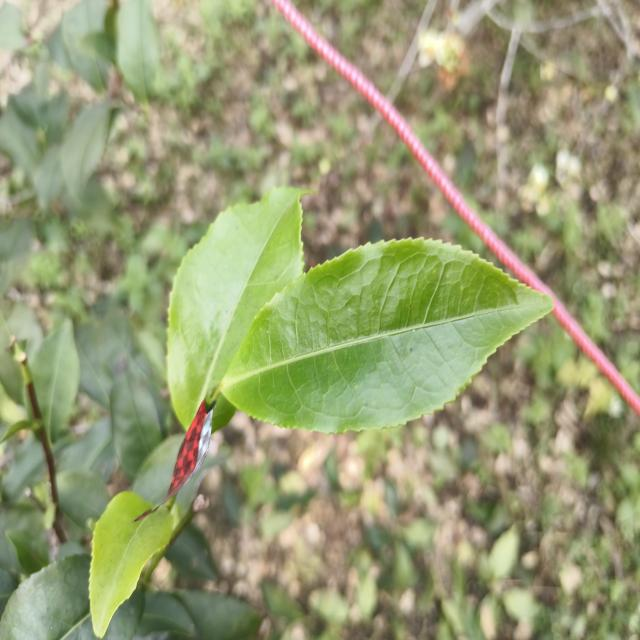Leaf: (222, 238, 552, 433), (168, 188, 307, 426), (89, 492, 173, 637), (0, 554, 100, 640), (29, 319, 80, 442), (110, 365, 163, 478), (61, 101, 117, 198), (56, 0, 115, 91), (117, 0, 160, 102), (0, 97, 40, 175), (57, 469, 110, 527), (166, 522, 218, 581), (2, 436, 46, 501), (138, 592, 195, 638), (5, 530, 49, 574), (111, 594, 144, 640), (0, 1, 29, 51)
